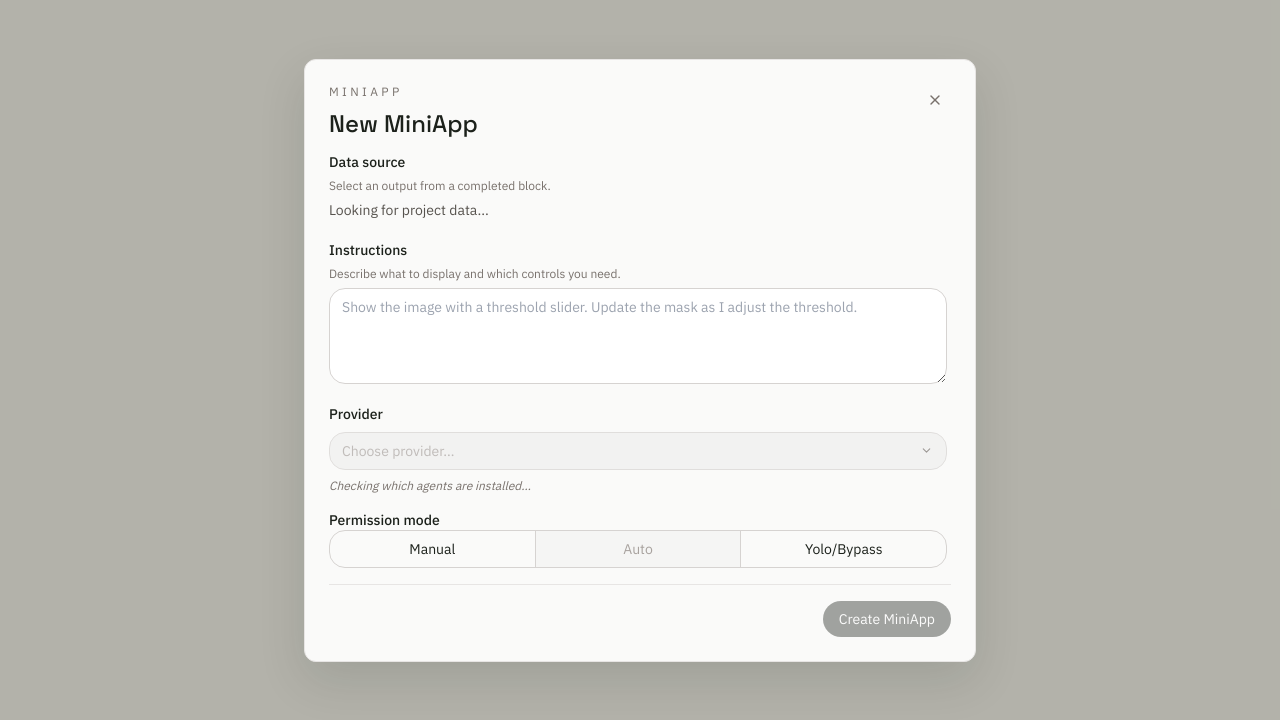
Test case: CreateMiniAppDialog (ADR-054 FR-023 / FR-024 / FR-025) › will not submit with a provider that is not installed
Replace the text in the text box with test id "miniapp-create-request" with "Threshold explorer please.": {"x": 638, "y": 336} [329,288,947,384]
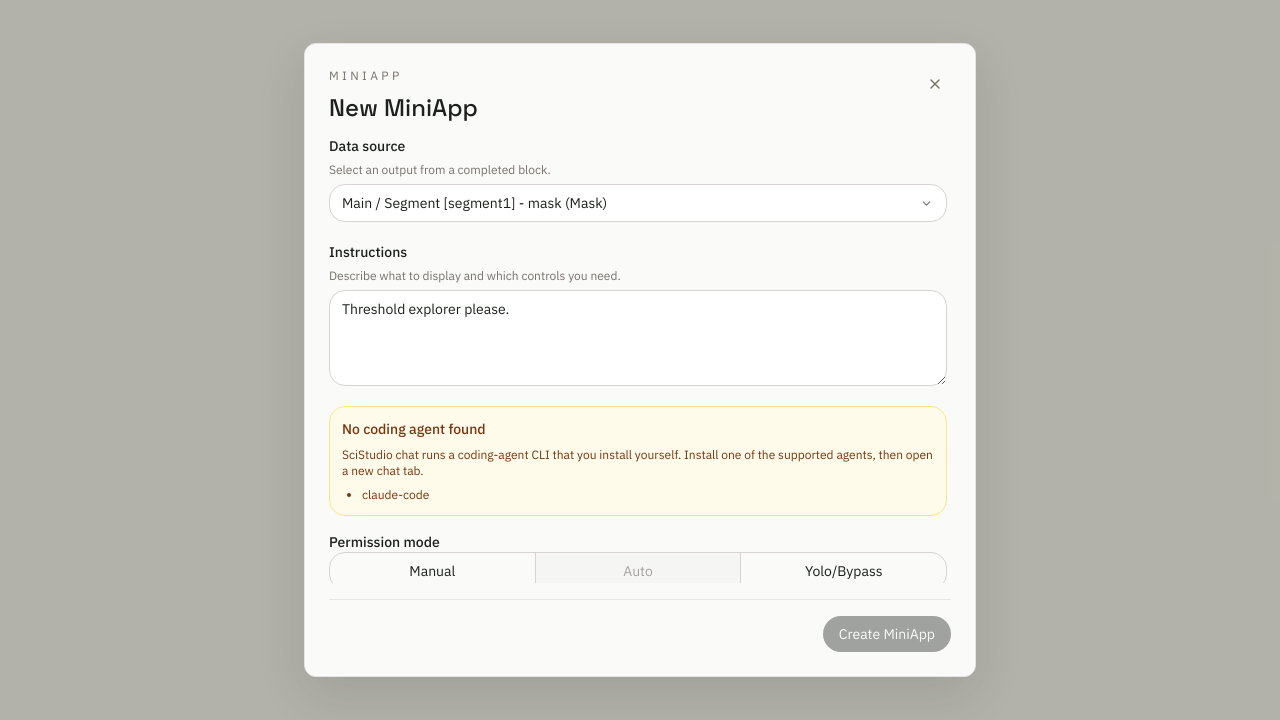
Expected: the button with test id "miniapp-create-submit" is disabled, [823,616,951,652]
Result: the element with test id "setup-no-providers-notice" is shown at [329,406,947,516]
